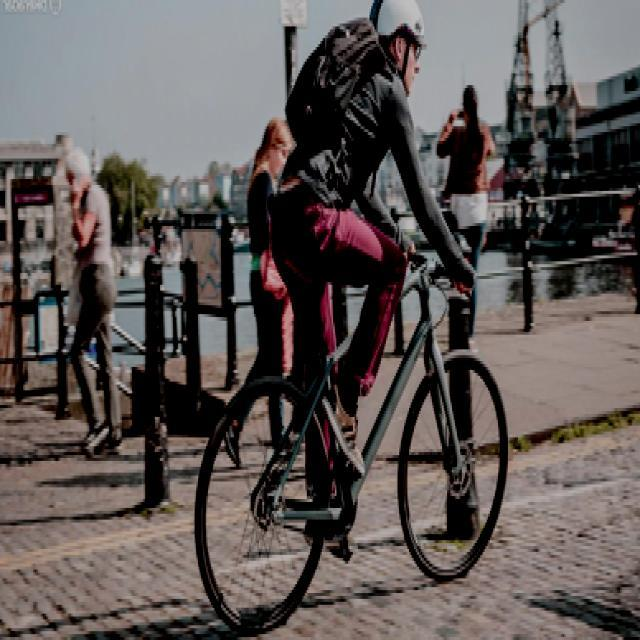Helmet: (366, 0, 432, 97)
